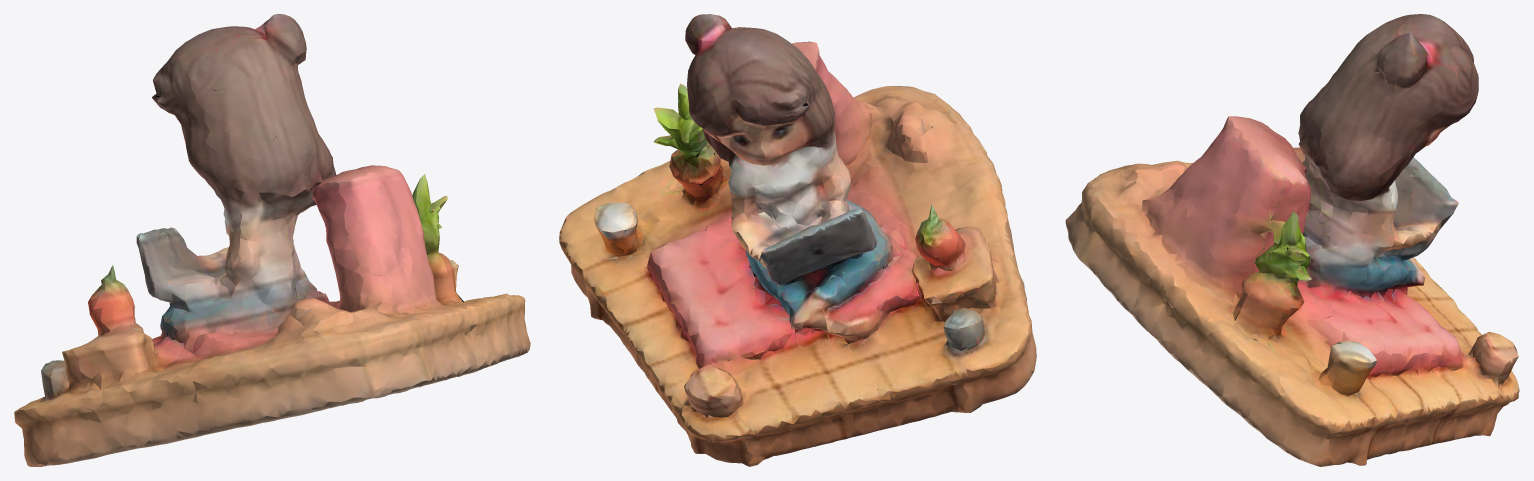
3 renders of one model, left to right at view 1: azimuth 30°, elevation 25°; view 2: azimuth 150°, elevation 25°; view 3: azimuth 270°, elevation 25°, orthographic. The views are drawn at different scales.
Parts seen in each view (by area): view 1: world; view 2: world; view 3: world.
Part boxes in pixels (x1,y1,x2,y2): world: [14, 14, 530, 466]; world: [559, 14, 1036, 466]; world: [1065, 14, 1519, 466].
Size of the model in its own units: 0.9829 by 0.8144 by 0.8056.
1 material, 1 textured.
